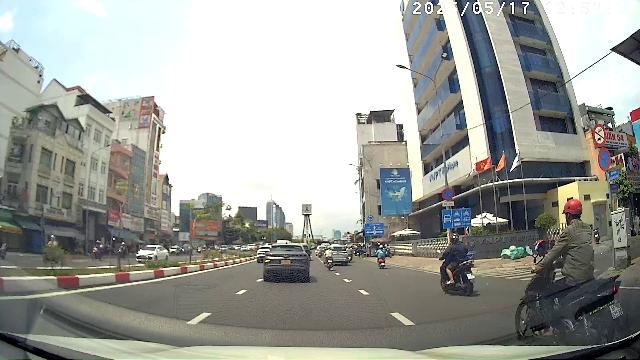131a-cam-do-xe: (598, 148, 612, 170), (442, 188, 454, 202)
303-noi-giao-nhau-chay-theo-vong-xuyen: (368, 215, 374, 221)
